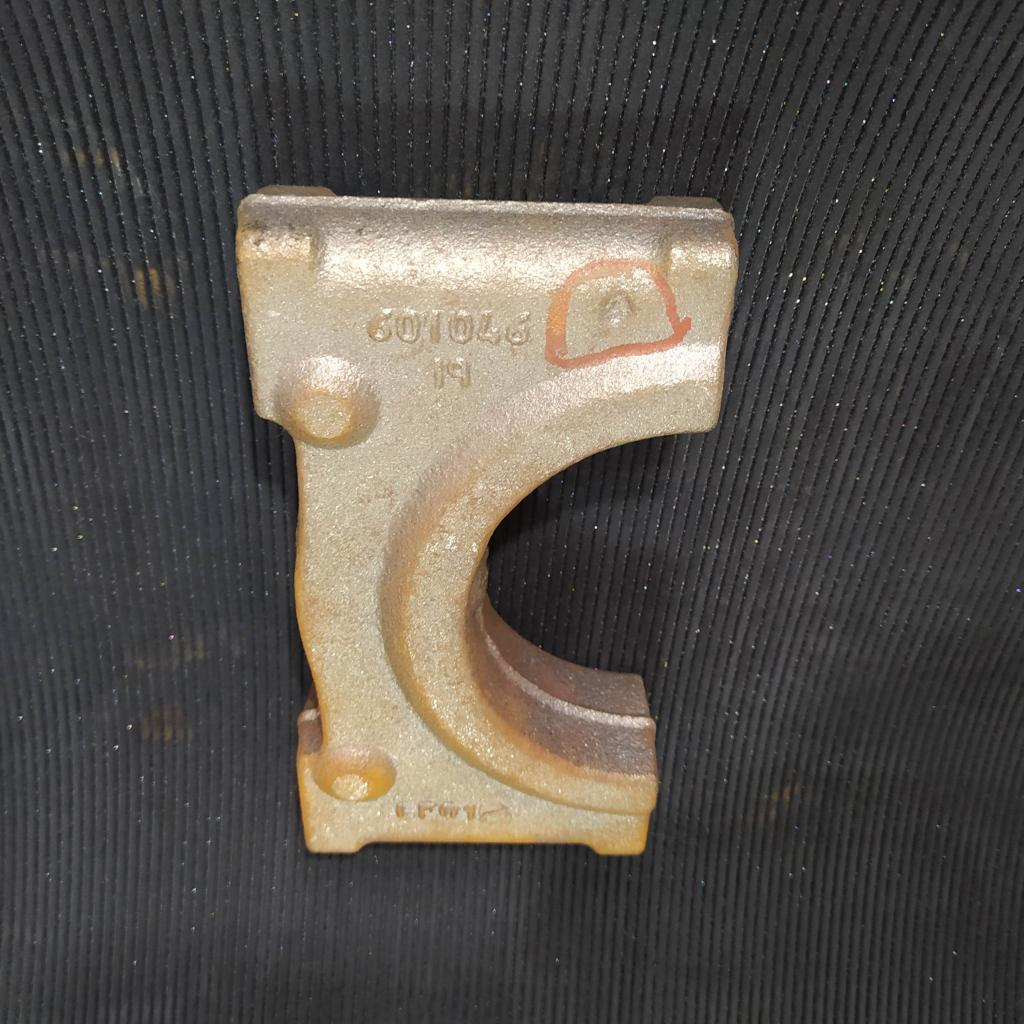buraco: (599, 287, 637, 335)
